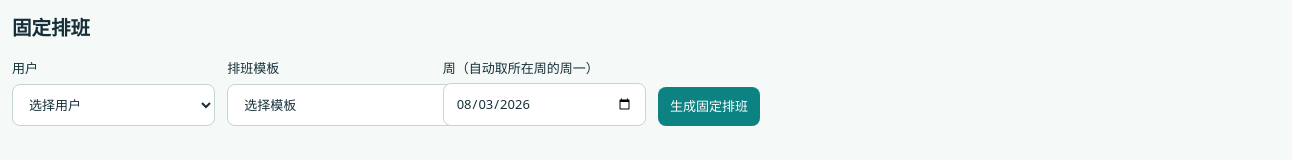
GenerateSection › shows a toast when generation fails
The image size is (1292, 160).
Select "张医生" in the dropdown named "选择用户" at (114, 105), box [12, 84, 215, 126]
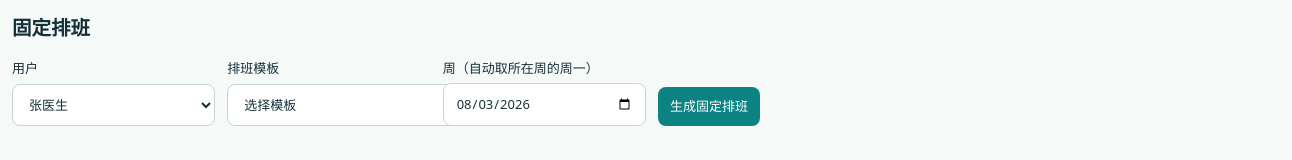
Select "早班（周一~周五 09:00-18:00）" in the dropdown named "选择模板" at (343, 105), box [227, 84, 459, 126]
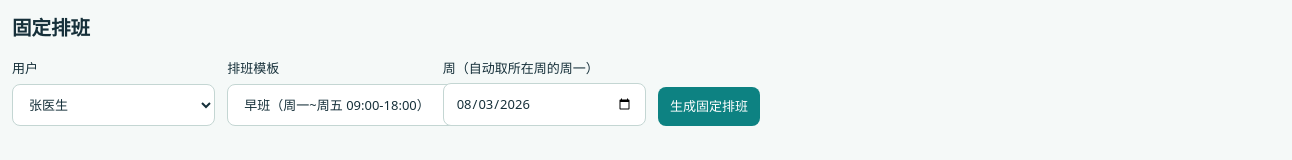
Click the button "生成固定排班" at (709, 107), box [658, 88, 760, 126]
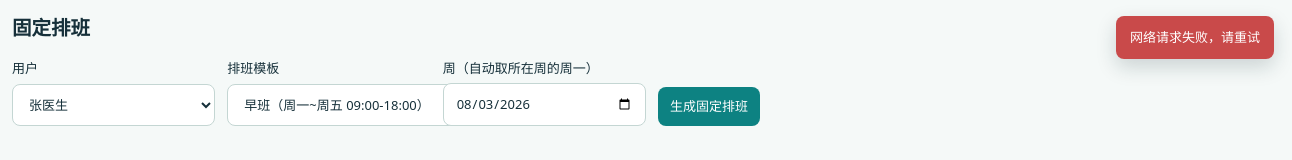
expect the text "网络请求失败，请重试" is shown: met, box [1116, 16, 1274, 59]
